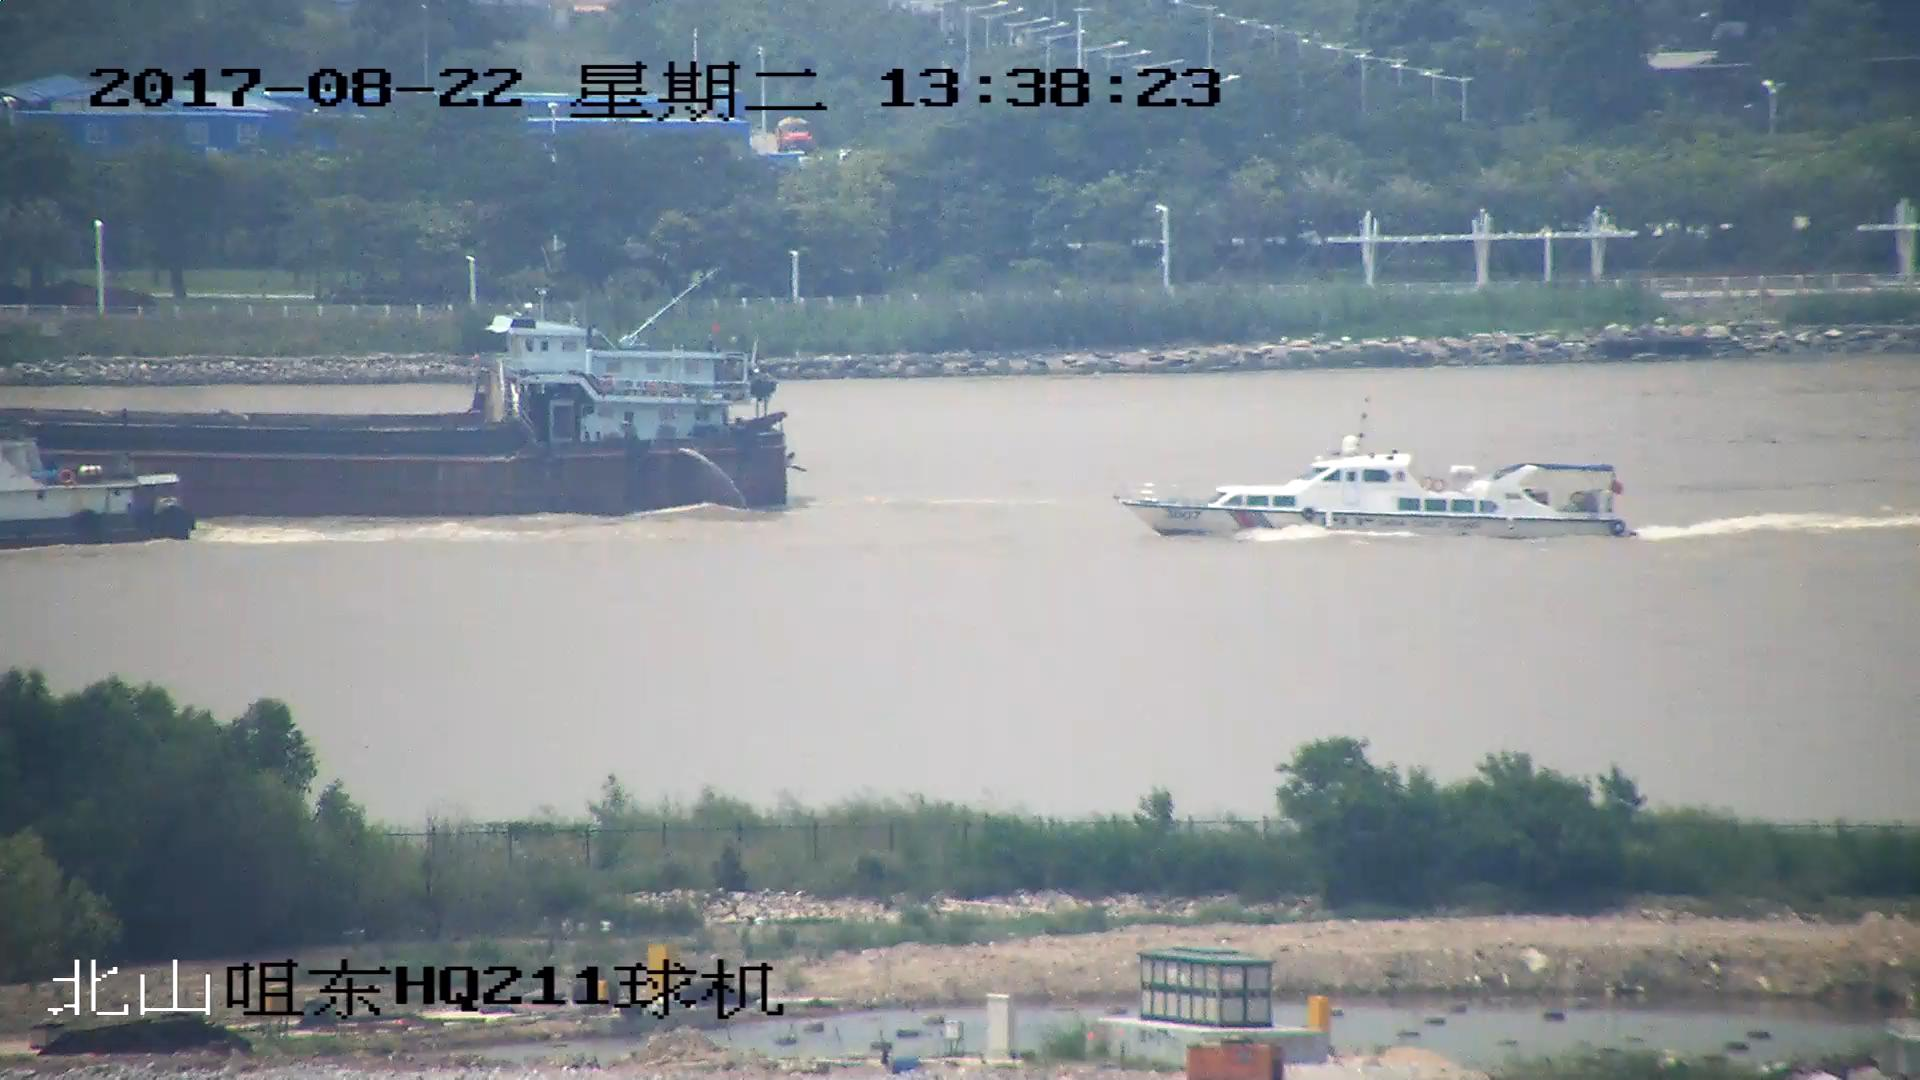bulk cargo carrier: (1, 289, 797, 516)
passenger ship: (1125, 422, 1638, 552), (1, 445, 204, 552)
